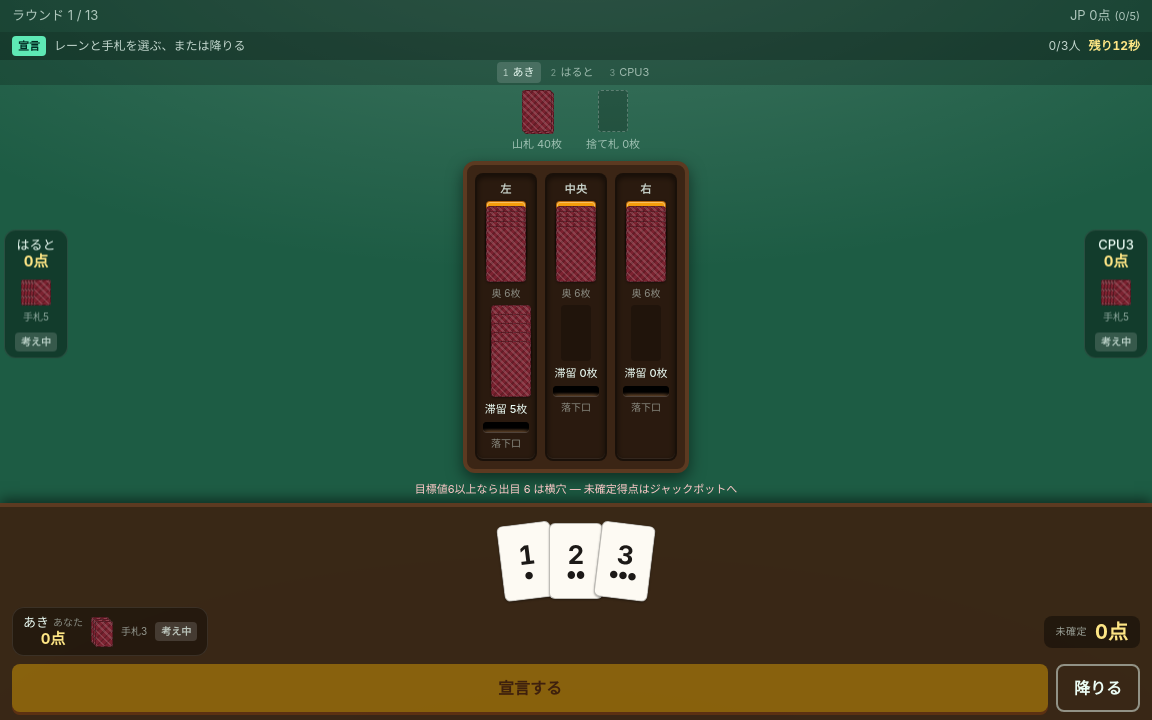
Test: 目標値の提示（docs/spec.md §3） › 目標値に下限がある設定では、危険なレーンにだけ印を出す（docs/spec.md §5）
Click the button named "1コイン札" at (527, 561), box left=496, top=520, right=559, bottom=602
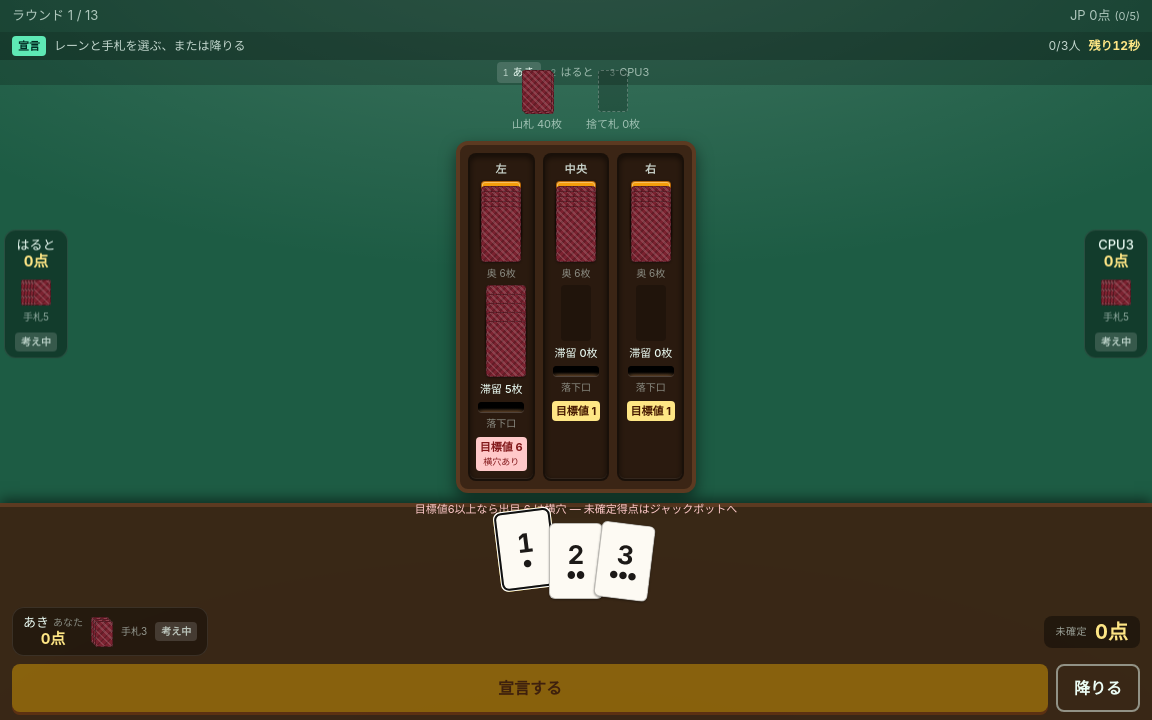
expect the text "目標値 6" is shown: met, box left=480, top=439, right=523, bottom=455
expect the text "横穴あり" is shown: met, box left=483, top=455, right=519, bottom=469
